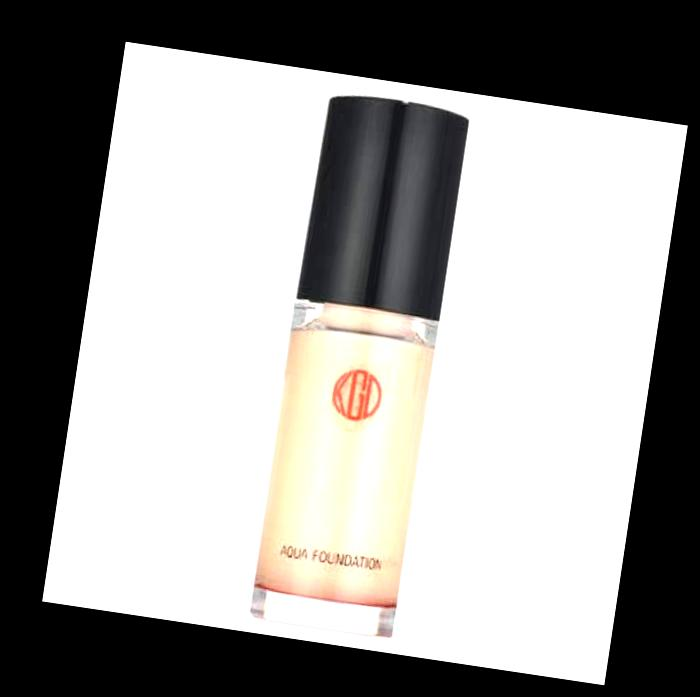cosmetic: (245, 90, 475, 643)
